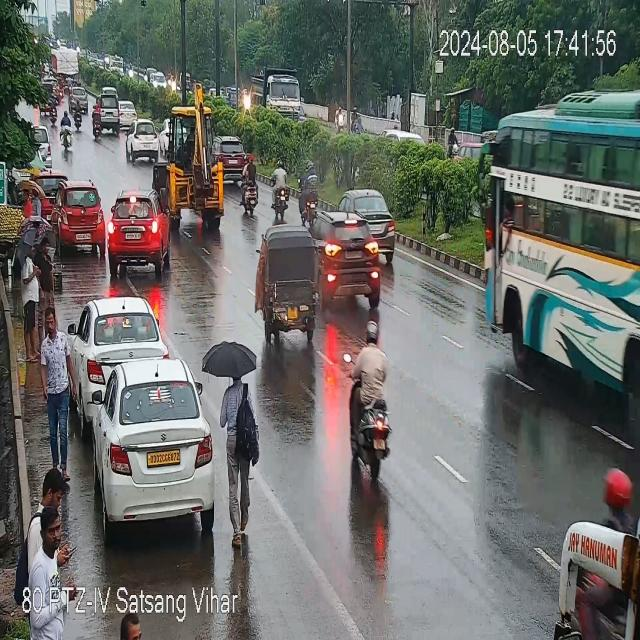2-wheelers: (339, 323, 394, 481), (592, 458, 638, 530), (272, 158, 318, 218), (236, 160, 260, 221), (336, 103, 364, 129), (92, 101, 104, 140), (447, 126, 457, 159), (63, 112, 70, 149), (73, 100, 81, 127)
auto: (254, 223, 322, 345)
bus: (483, 80, 638, 403), (551, 491, 639, 640)
car: (88, 359, 220, 528), (325, 185, 400, 308), (71, 296, 164, 388), (108, 191, 172, 273), (54, 181, 104, 250), (126, 119, 164, 160), (215, 138, 250, 176), (115, 100, 138, 126), (99, 106, 120, 132), (100, 87, 120, 108), (70, 87, 88, 106)
pedestrian: (215, 364, 252, 539), (42, 309, 74, 471), (32, 472, 76, 577), (18, 252, 39, 360), (41, 229, 56, 306), (22, 184, 43, 230)
truck: (160, 78, 228, 232), (254, 70, 309, 126), (51, 37, 82, 87)
